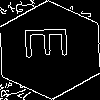E: (25, 25, 78, 60)
